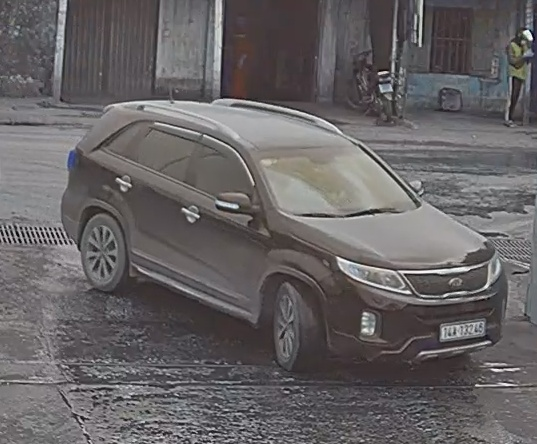vehicle plate: (438, 315, 491, 343)
